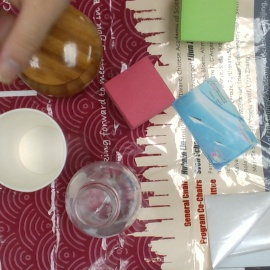bottle: (66, 163, 142, 236)
card: (174, 76, 259, 168)
chess: (11, 4, 102, 94)
cup: (1, 109, 66, 193)
